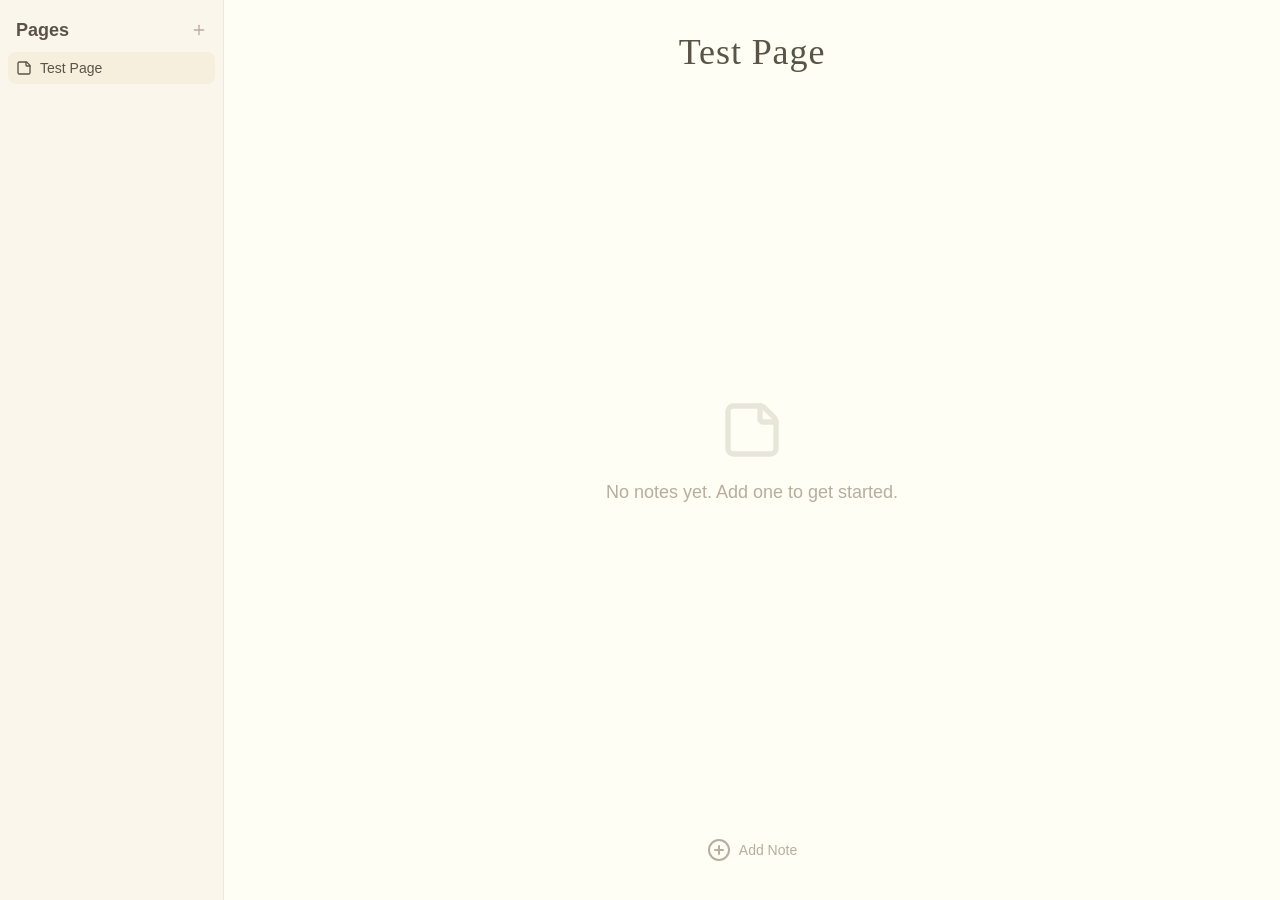
Scenario: App - with a page › adds a note when clicking Add Note
Click the button "Add Note" at coordinates (752, 850), box [696,832,808,868]
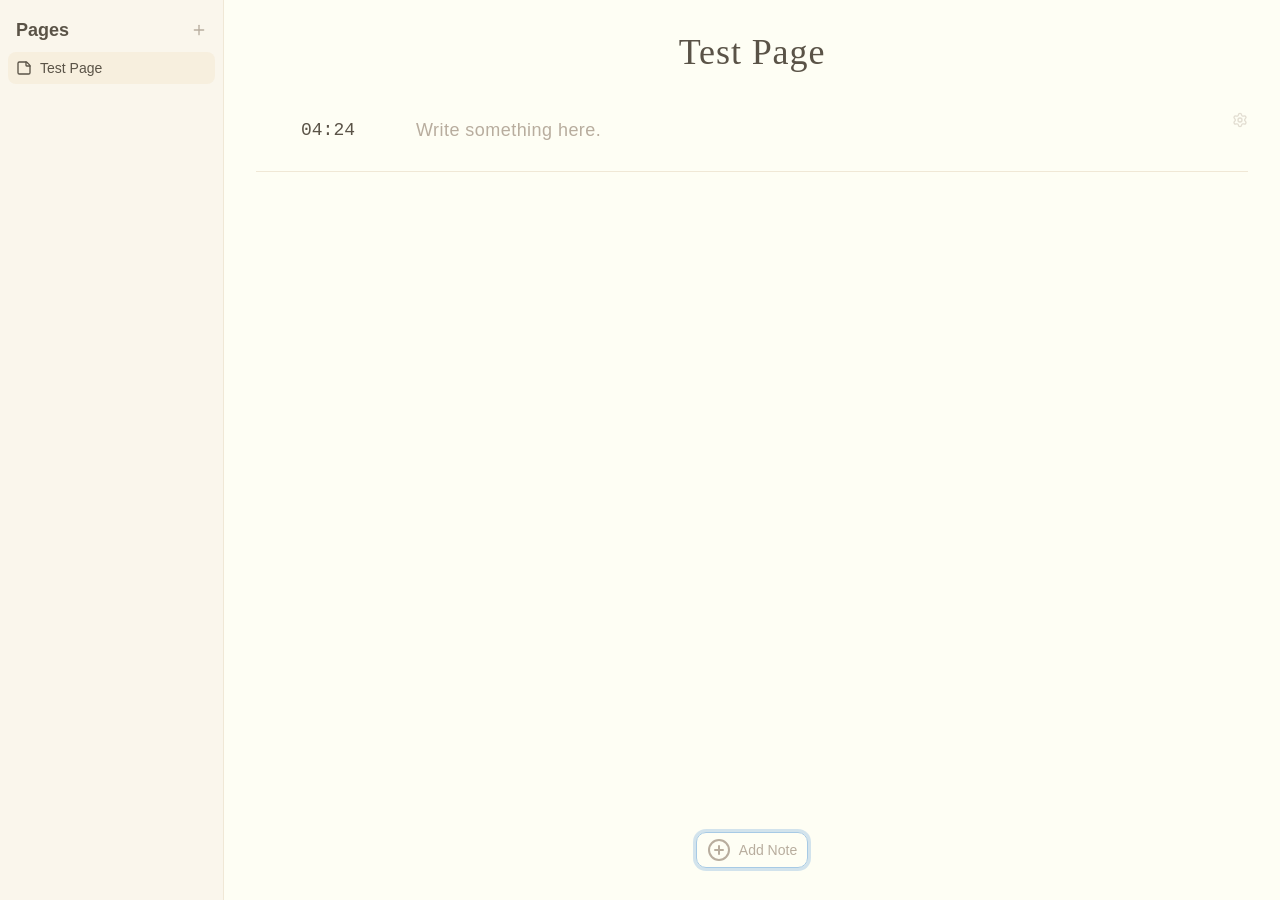
Expected: the text box with placeholder "Write something here." is shown, [408,112,1224,148]
